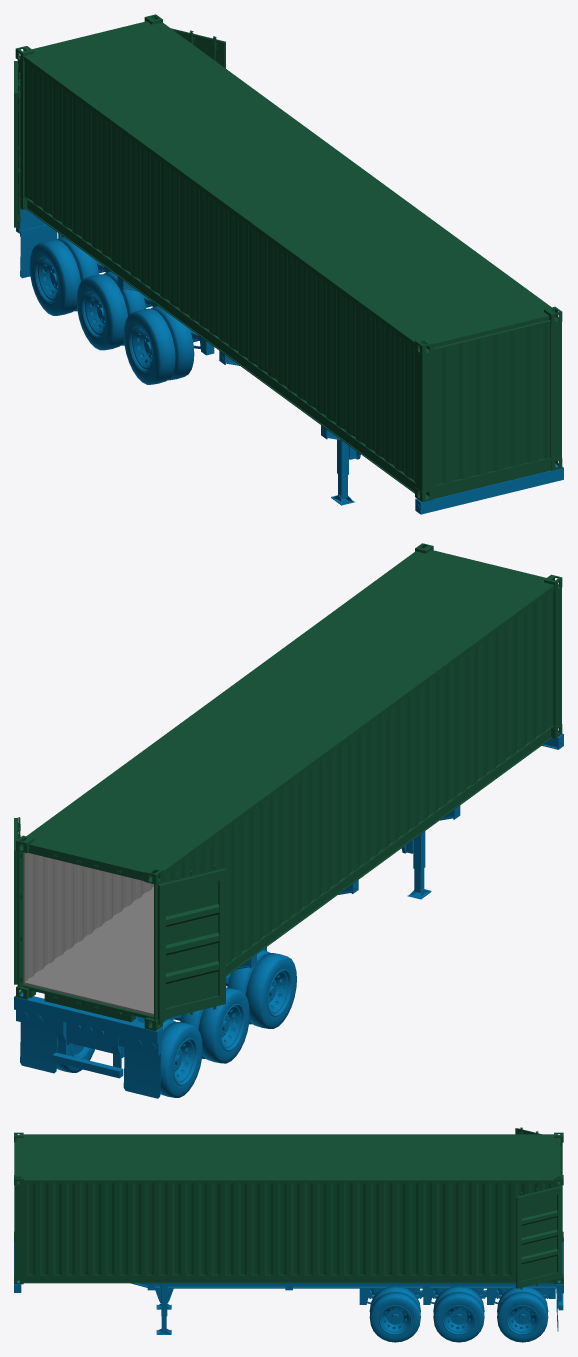
File: ContainerTrailer.glb
3 views of the same model, one above another, from view 1: azimuth 30°, elevation 25°; view 2: azimuth 150°, elevation 25°; view 3: azimuth 270°, elevation 25° (orthographic). The views are drawn at different scales.
Parts seen in each view (by area): view 1: Container, Chassis, Door_Right, Door_Left; view 2: Container, Chassis, Interior, Door_Right, Door_Left; view 3: Container, Chassis, Door_Left.
Part boxes in pixels (x1=…): Container: x1=15, y1=14, x2=562, y2=502; Chassis: x1=16, y1=209, x2=563, y2=514; Door_Right: x1=14, y1=60, x2=20, y2=228; Door_Left: x1=171, y1=28, x2=225, y2=68; Container: x1=16, y1=543, x2=562, y2=1030; Chassis: x1=14, y1=732, x2=563, y2=1098; Interior: x1=23, y1=852, x2=153, y2=1015; Door_Right: x1=154, y1=865, x2=225, y2=1019; Door_Left: x1=14, y1=817, x2=20, y2=984; Container: x1=14, y1=1132, x2=563, y2=1284; Chassis: x1=14, y1=1238, x2=563, y2=1342; Door_Left: x1=516, y1=1185, x2=562, y2=1289.
Bounding box in the file's own units: 3.68 × 4.04 × 12.22.
